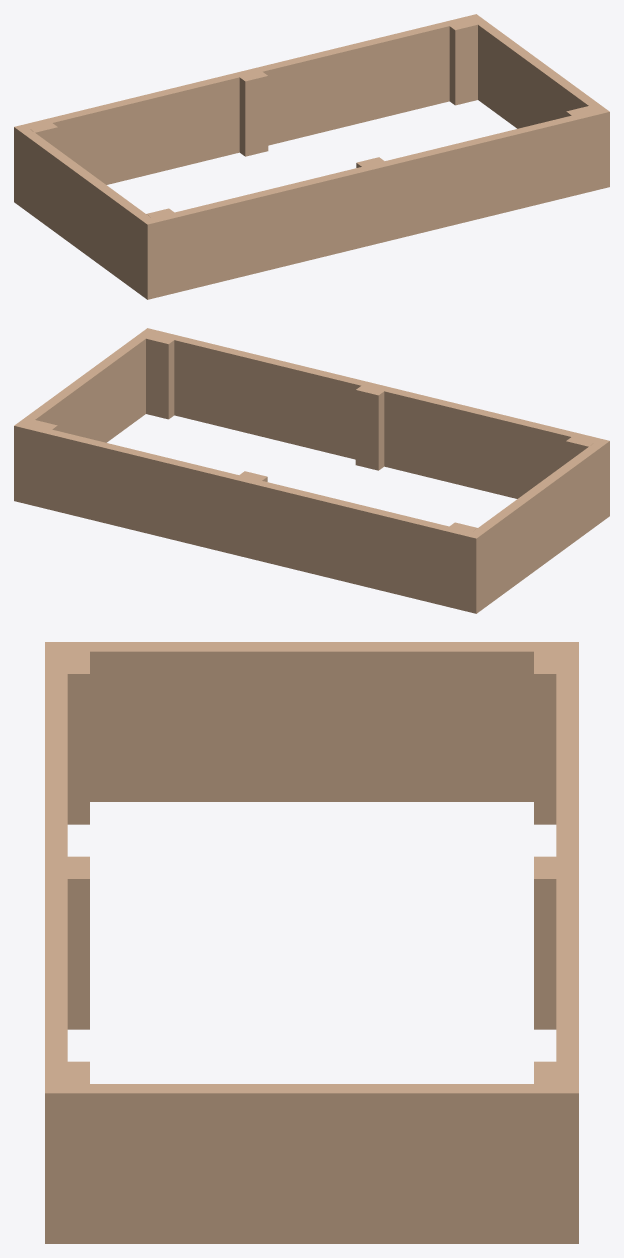
The model's file is natural.glb.
The picture shows the model from 3 angles, top to bottom: view 1: azimuth 30°, elevation 25°; view 2: azimuth 150°, elevation 25°; view 3: azimuth 270°, elevation 25°; orthographic projection. The views are drawn at different scales.
Visible parts, largest first — view 1: long_side.4, long_side.2, long_side.3, long_side.1, short_side.3, short_side.4, short_side.1, mid_brace.1, corner_post.2, short_side.2, corner_post.1; view 2: long_side.3, long_side.1, long_side.4, long_side.2, short_side.3, short_side.4, short_side.1, mid_brace.2, corner_post.4, short_side.2, corner_post.3; view 3: short_side.4, short_side.3, short_side.2, short_side.1, long_side.3, long_side.4, corner_post.1, corner_post.3, mid_brace.1, mid_brace.2, long_side.1, long_side.2.
Part boxes in pixels (bbox=[...]): long_side.4: bbox=[142, 107, 609, 262]; long_side.2: bbox=[142, 149, 609, 299]; long_side.3: bbox=[14, 14, 481, 168]; long_side.1: bbox=[14, 64, 449, 205]; short_side.3: bbox=[19, 128, 151, 257]; short_side.4: bbox=[472, 18, 603, 119]; short_side.1: bbox=[19, 169, 141, 295]; mid_brace.1: bbox=[239, 72, 268, 156]; corner_post.2: bbox=[449, 20, 477, 105]; short_side.2: bbox=[478, 62, 555, 128]; corner_post.1: bbox=[30, 123, 57, 149]; long_side.3: bbox=[14, 421, 481, 576]; long_side.1: bbox=[14, 463, 481, 613]; long_side.4: bbox=[142, 328, 609, 482]; long_side.2: bbox=[174, 378, 609, 519]; short_side.3: bbox=[472, 442, 604, 571]; short_side.4: bbox=[20, 332, 151, 433]; short_side.1: bbox=[482, 483, 604, 609]; mid_brace.2: bbox=[355, 386, 384, 470]; corner_post.4: bbox=[146, 334, 174, 419]; short_side.2: bbox=[68, 376, 145, 442]; corner_post.3: bbox=[566, 437, 593, 463]; short_side.4: bbox=[67, 1084, 556, 1168]; short_side.3: bbox=[67, 642, 556, 726]; short_side.2: bbox=[67, 1168, 556, 1243]; short_side.1: bbox=[90, 727, 533, 801]; long_side.3: bbox=[556, 642, 578, 1168]; long_side.4: bbox=[45, 642, 67, 1168]; corner_post.1: bbox=[534, 651, 556, 824]; corner_post.3: bbox=[67, 651, 89, 824]; mid_brace.1: bbox=[534, 856, 556, 1029]; mid_brace.2: bbox=[67, 856, 89, 1029]; long_side.1: bbox=[556, 1168, 578, 1243]; long_side.2: bbox=[45, 1168, 67, 1243].
Size of the model in its own units: 1.8 by 0.28 by 0.9.
